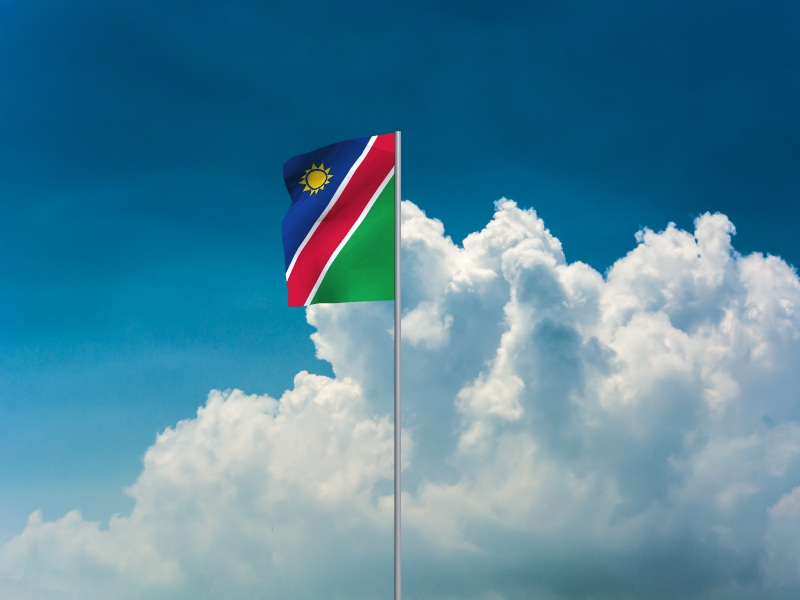na: (281, 134, 395, 307)
